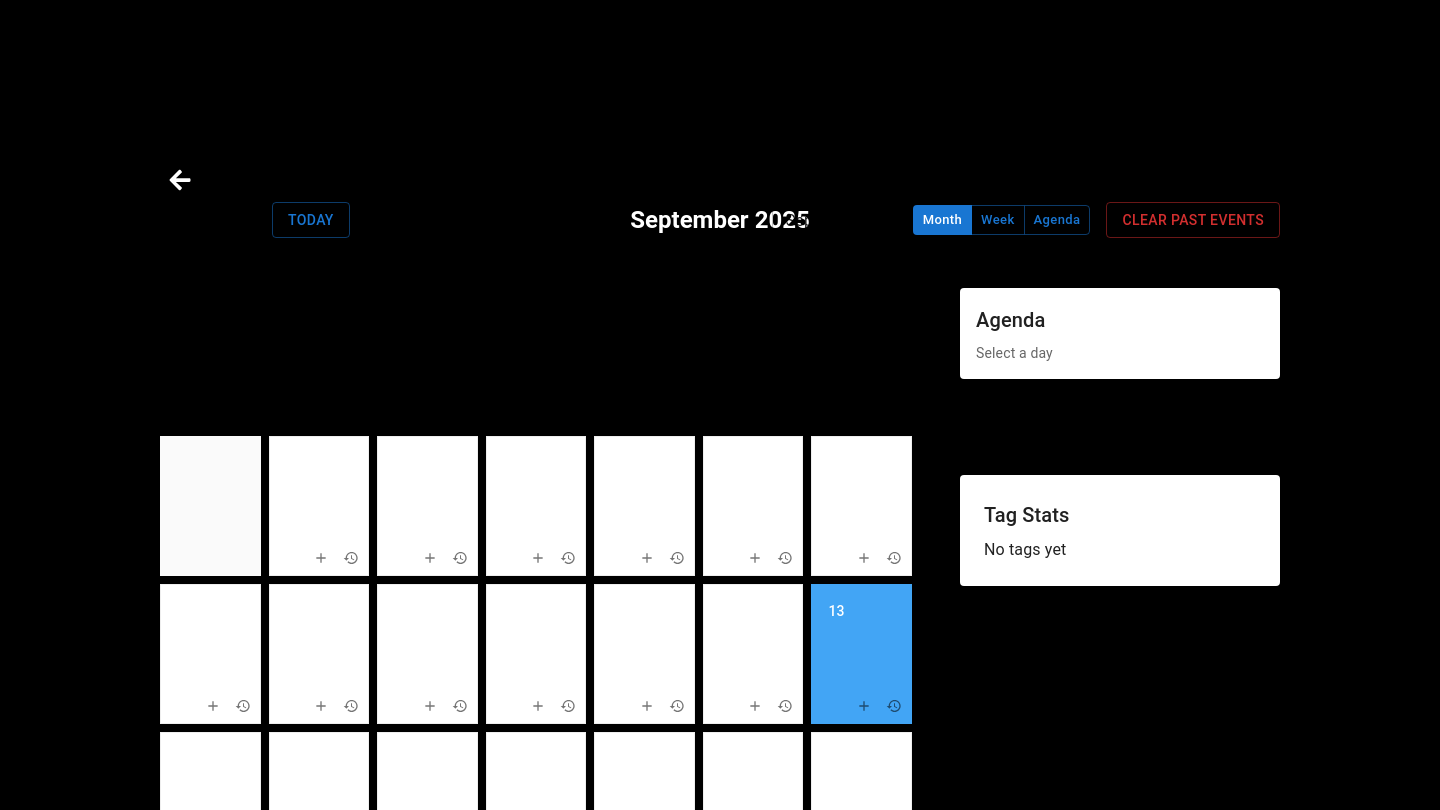
Calendar quick add › closes quick add with Escape key and restores focus
This screenshot has width=1440, height=810.
Click the cell with test id "day-1" at (319, 506), box left=269, top=436, right=369, bottom=576
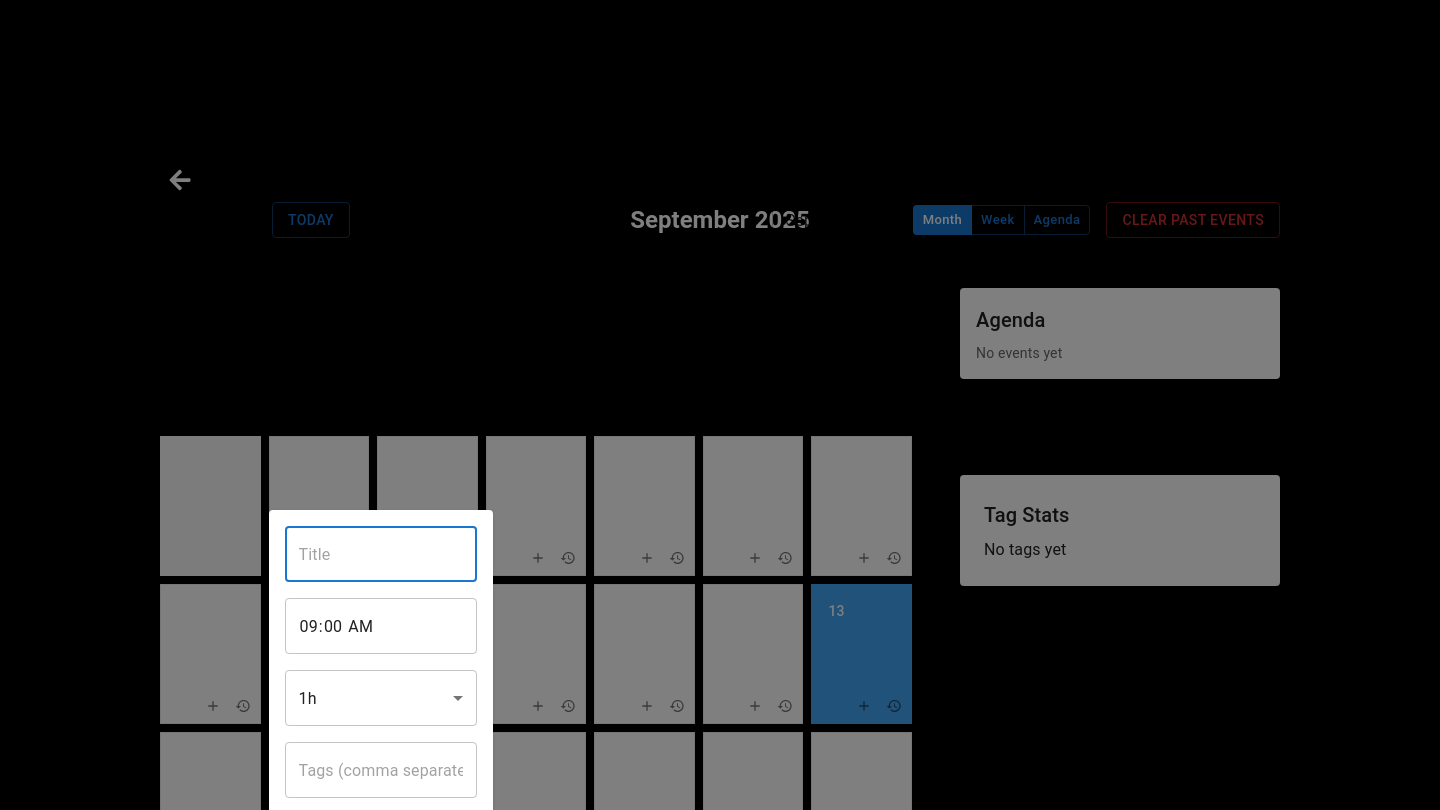
Press Escape
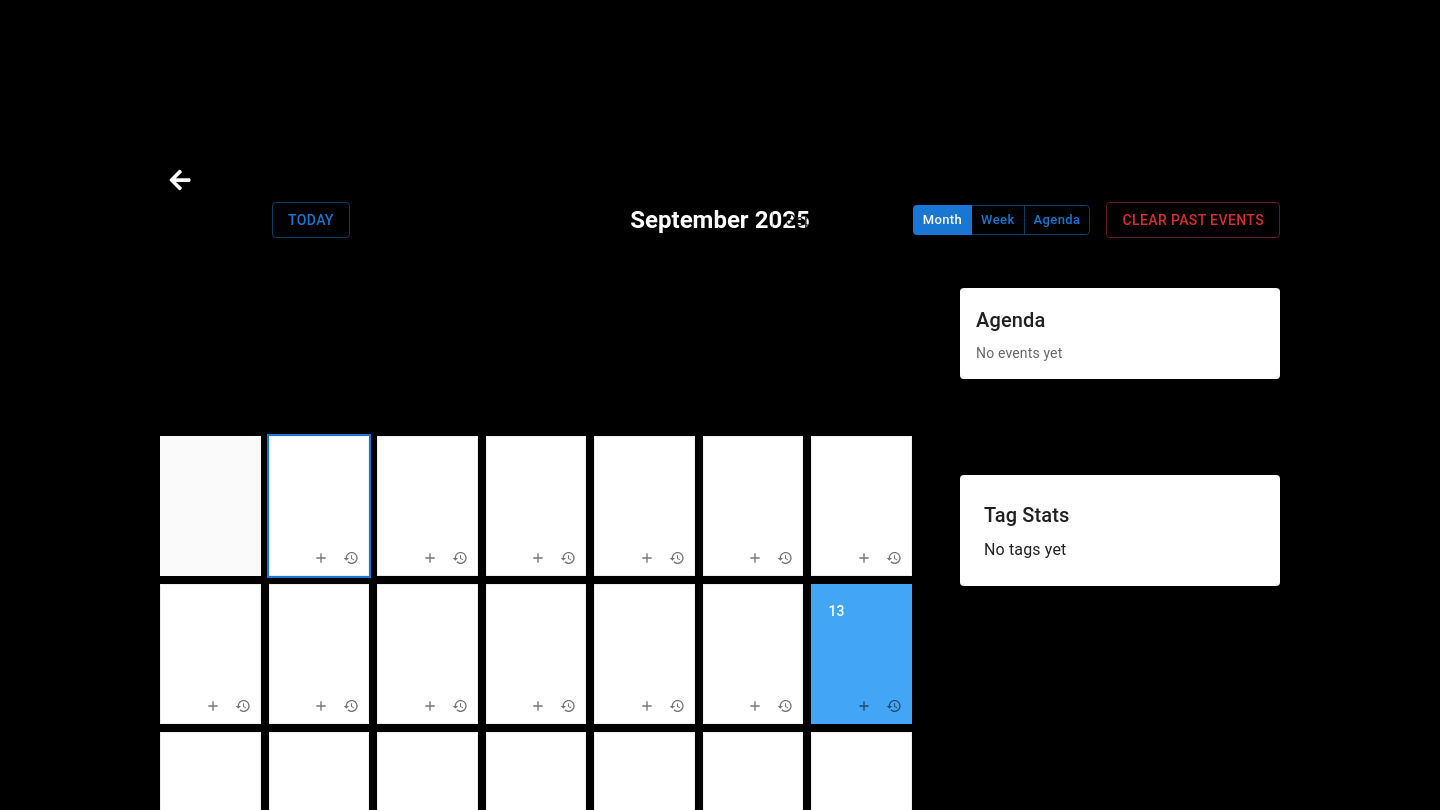
Result: the field with placeholder "Title" is gone
